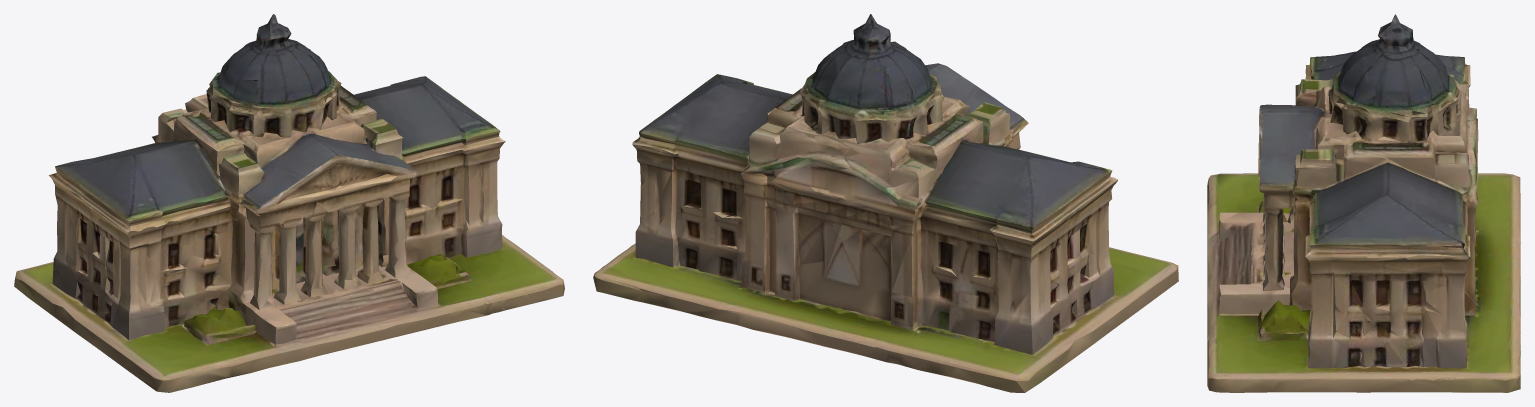
Rendered from national-taiwan-museum.glb.
The picture shows the model from 3 angles, left to right: view 1: azimuth 30°, elevation 25°; view 2: azimuth 150°, elevation 25°; view 3: azimuth 270°, elevation 25°; orthographic projection. The views are drawn at different scales.
Visible parts, largest first — view 1: logan-textured.obj; view 2: logan-textured.obj; view 3: logan-textured.obj.
Boxes of the visible parts, left/top/right/bottom form: logan-textured.obj: left=14, top=14, right=564, bottom=392; logan-textured.obj: left=593, top=14, right=1178, bottom=392; logan-textured.obj: left=1207, top=14, right=1520, bottom=392.
Size of the model in its own units: 1 by 0.6218 by 0.6411.
Materials: 1 (1 with a texture image).
